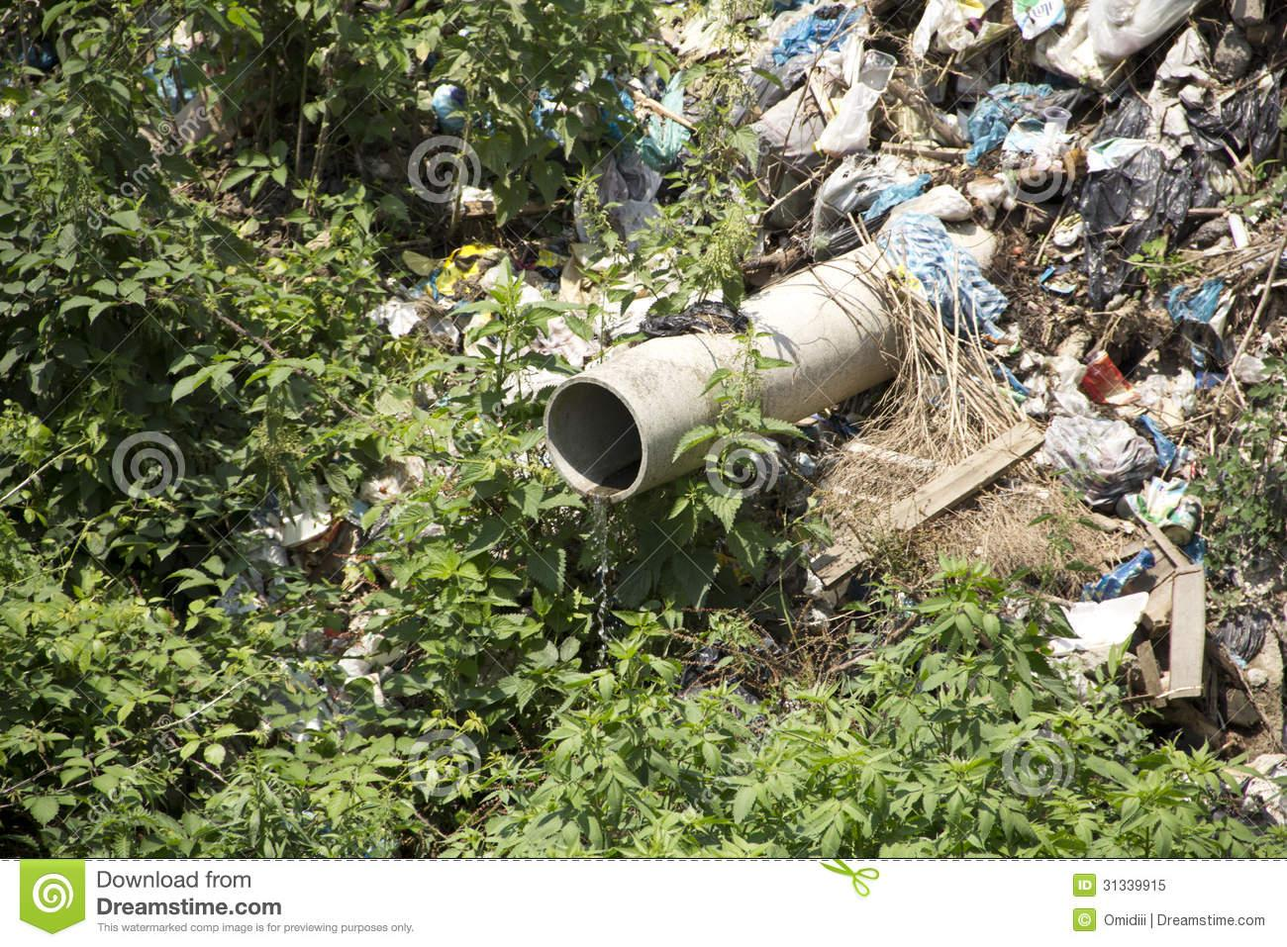garbage: (449, 0, 1286, 572)
